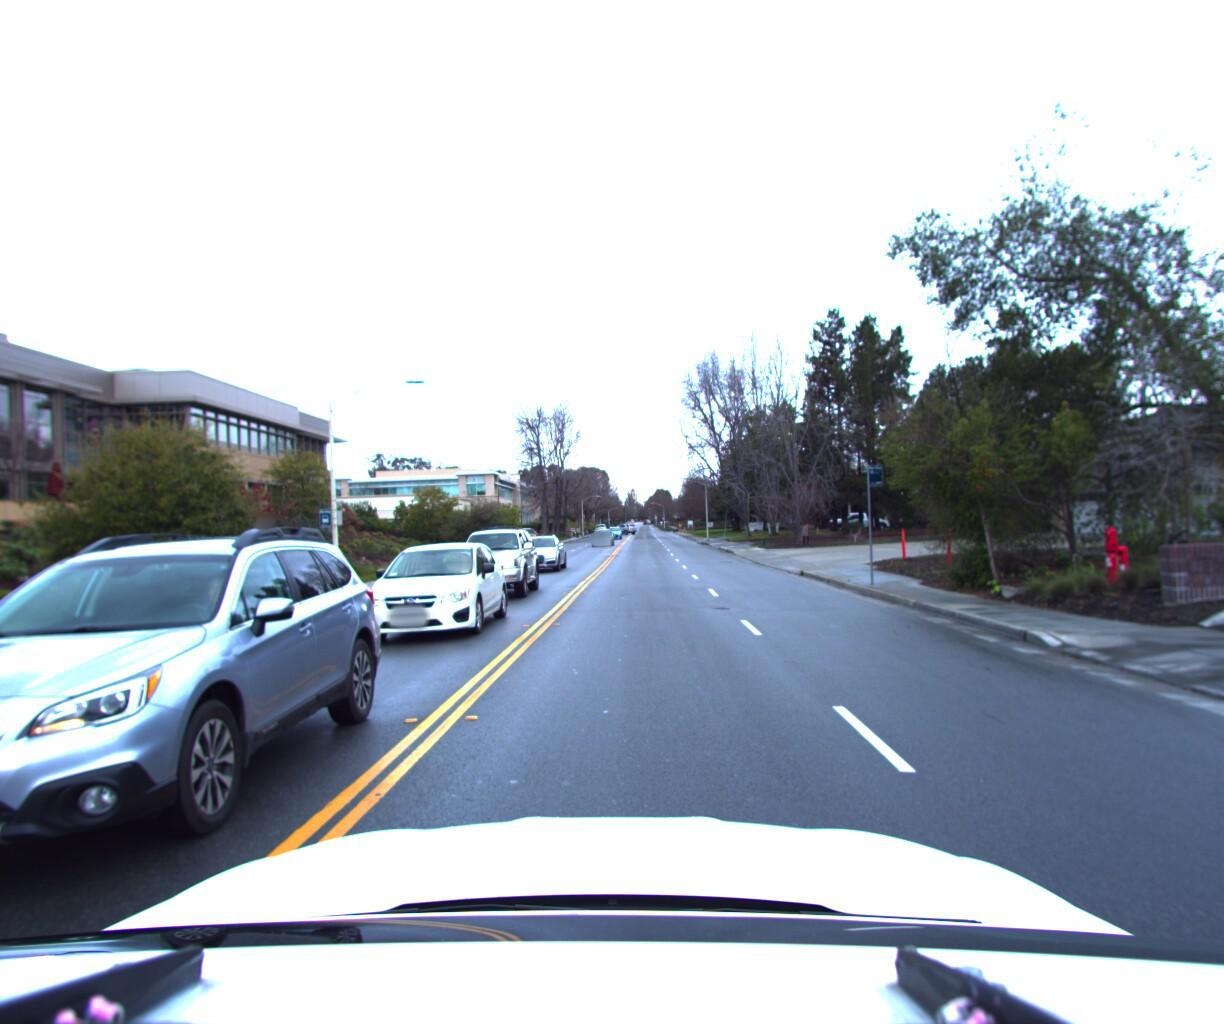car: (0, 502, 405, 967), (333, 534, 513, 651), (431, 522, 545, 603), (508, 531, 570, 576), (827, 513, 881, 531), (590, 527, 613, 547)
